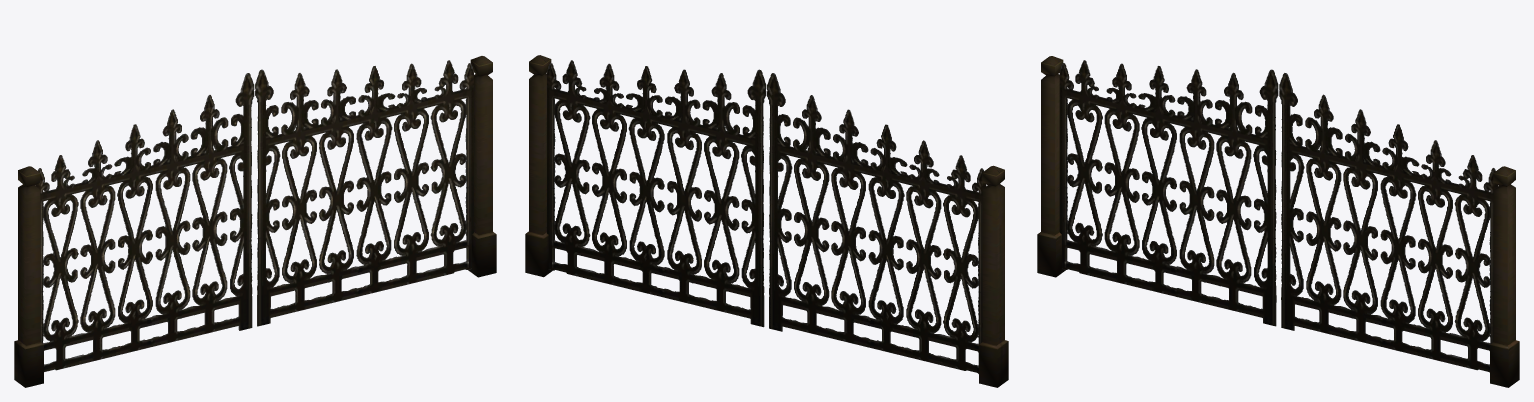
File: furni_0200954.FBX
3 views of the same model, side by side, from view 1: azimuth 30°, elevation 25°; view 2: azimuth 150°, elevation 25°; view 3: azimuth 330°, elevation 25° (orthographic).
Parts seen in each view (by area): view 1: furni_0200954; view 2: furni_0200954; view 3: furni_0200954.
Part boxes in pixels (x1,y1,x2,y2): furni_0200954: (14, 56, 496, 387); furni_0200954: (525, 55, 1008, 387); furni_0200954: (1037, 56, 1519, 387).
Bounding box in the file's own units: 227 × 120 × 9.25.
1 material, 1 textured.
